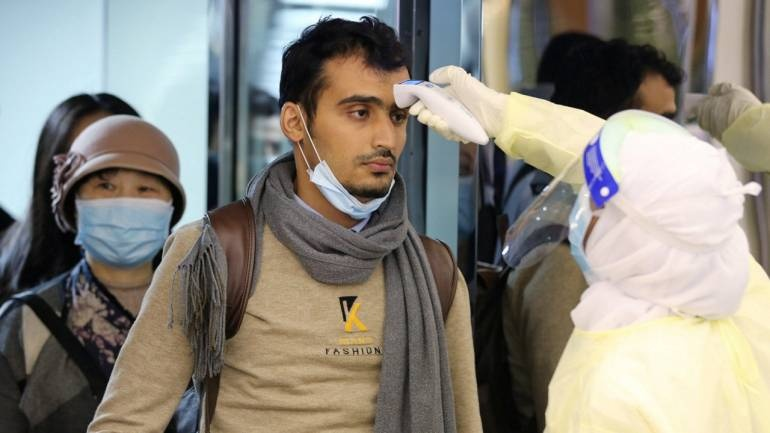with_incorrect_mask: (270, 17, 422, 218)
with_mask: (54, 146, 183, 262)
